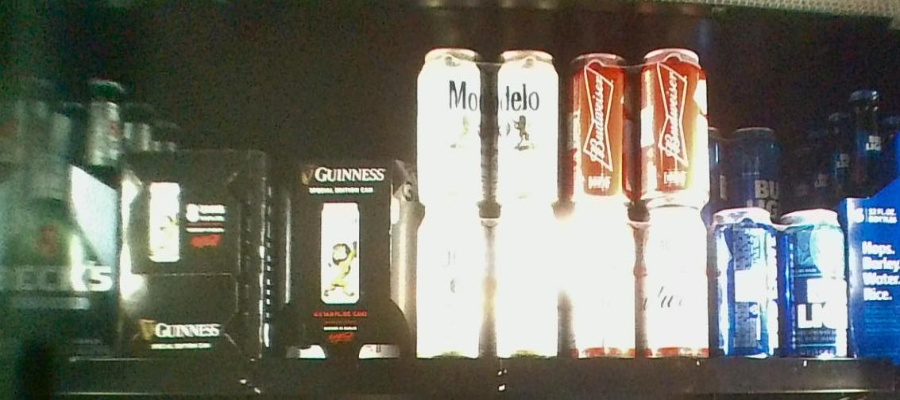bottle: (562, 49, 713, 357), (416, 46, 561, 358), (115, 148, 271, 362), (276, 156, 409, 363), (711, 206, 848, 362)
